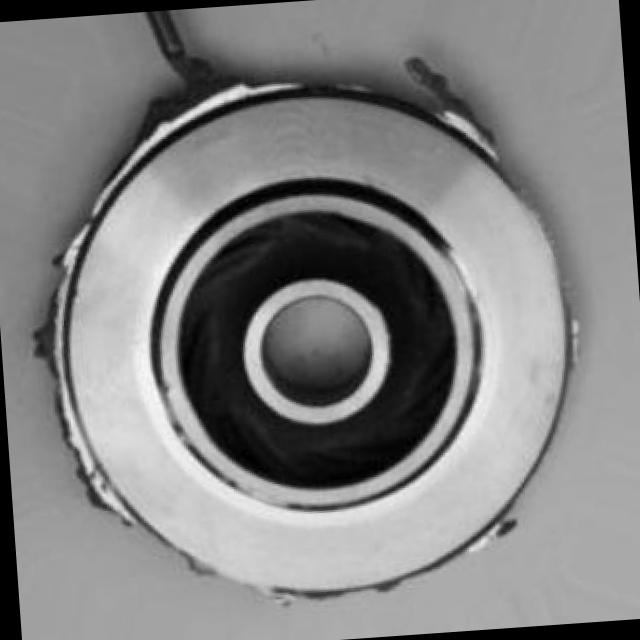Defect: (146, 29, 247, 134), (408, 52, 491, 168)
